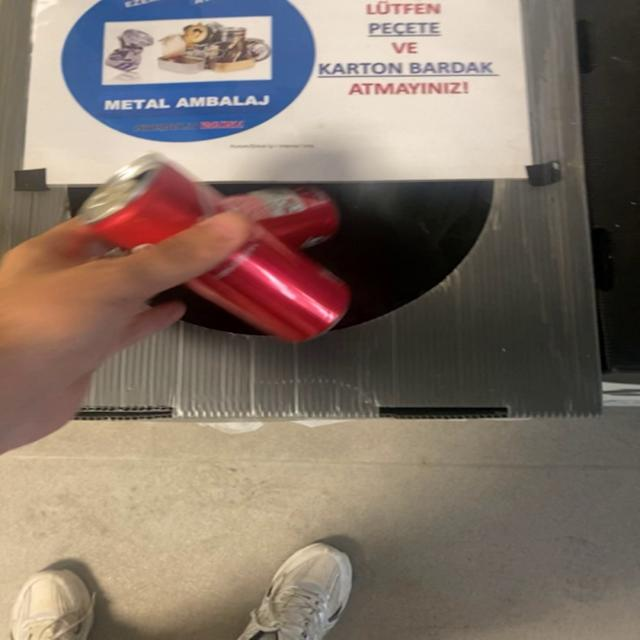bin: (2, 0, 601, 420)
metal: (77, 152, 349, 342)
